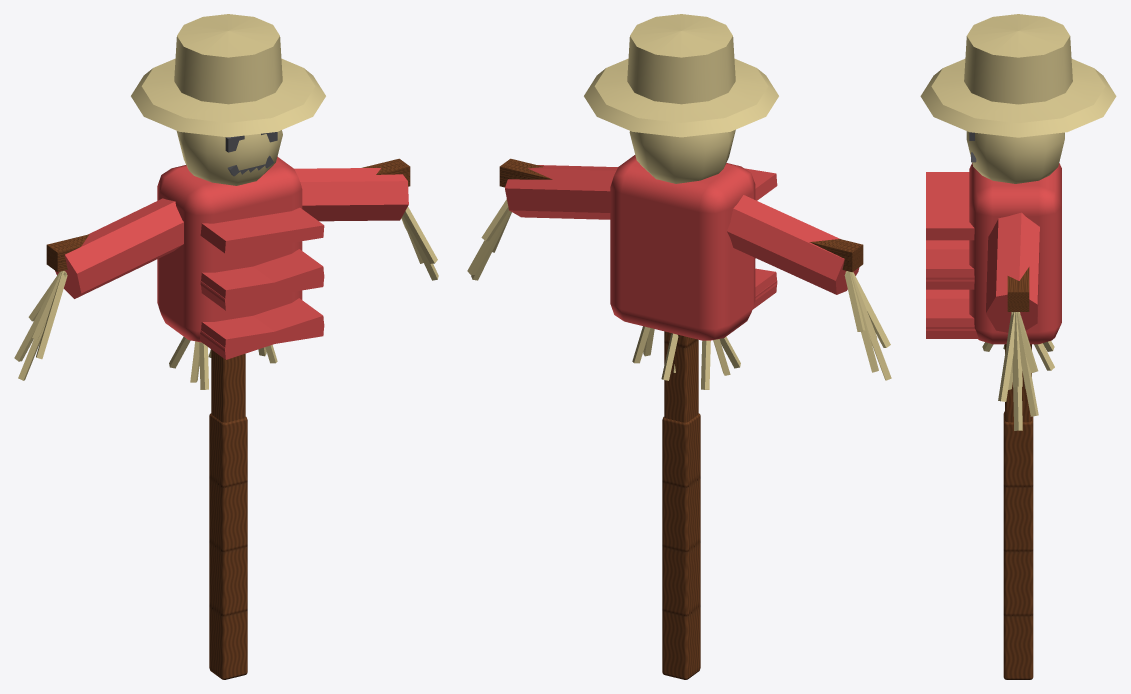
The model's file is scarecrow-r1.glb.
3 renders of one model, left to right at view 1: azimuth 30°, elevation 25°; view 2: azimuth 150°, elevation 25°; view 3: azimuth 270°, elevation 25°, orthographic.
Visible parts, largest first — view 1: scarecrow-body/warning, scarecrow-body/straw, scarecrow-on-post, scarecrow-body/timber; view 2: scarecrow-body/warning, scarecrow-body/straw, scarecrow-on-post, scarecrow-body/timber; view 3: scarecrow-body/straw, scarecrow-body/warning, scarecrow-on-post, scarecrow-body/timber.
Part boxes in pixels (x1,y1,x2,y2): scarecrow-body/warning: [55, 156, 408, 359]; scarecrow-body/straw: [14, 14, 438, 389]; scarecrow-on-post: [209, 413, 247, 679]; scarecrow-body/timber: [46, 158, 410, 422]; scarecrow-body/warning: [505, 155, 859, 340]; scarecrow-body/straw: [467, 14, 891, 389]; scarecrow-on-post: [662, 413, 700, 679]; scarecrow-body/timber: [499, 158, 863, 422]; scarecrow-body/straw: [920, 14, 1116, 430]; scarecrow-body/warning: [926, 163, 1061, 344]; scarecrow-on-post: [1003, 411, 1033, 679]; scarecrow-body/timber: [1005, 267, 1031, 422].
Bounding box in the file's own units: 1.79 × 2.61 × 0.7199.
Materials: 4 (1 with a texture image).
